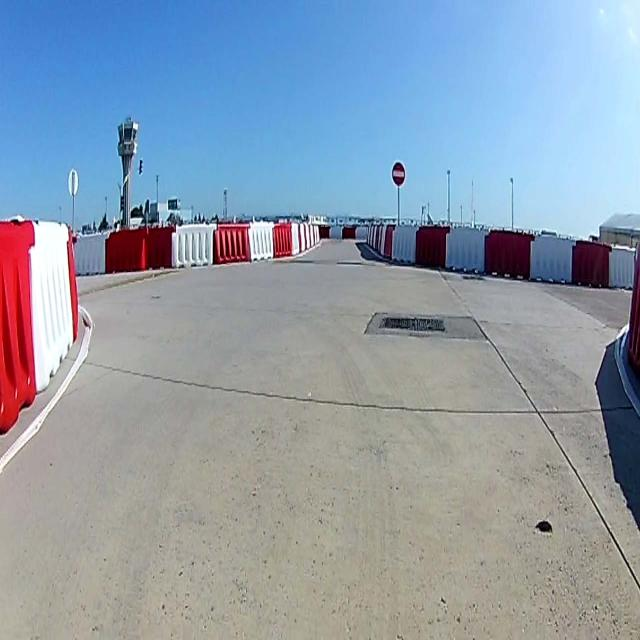girisyok: (391, 157, 405, 187)
